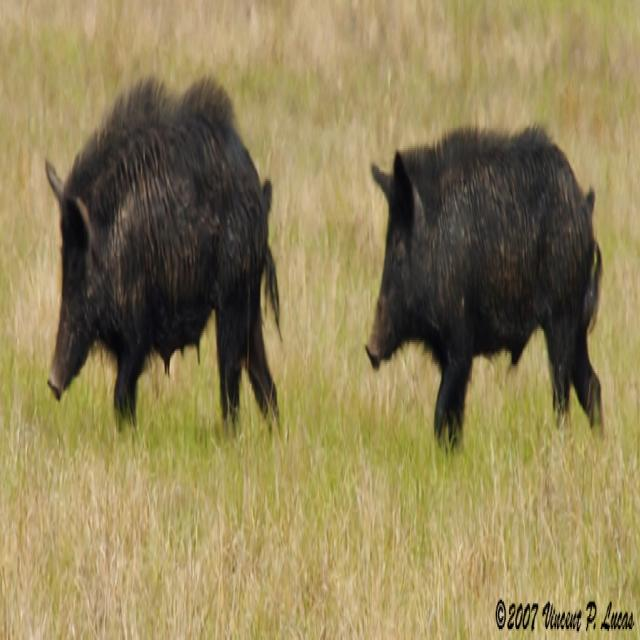Pig: (45, 67, 284, 433), (365, 120, 604, 454)
